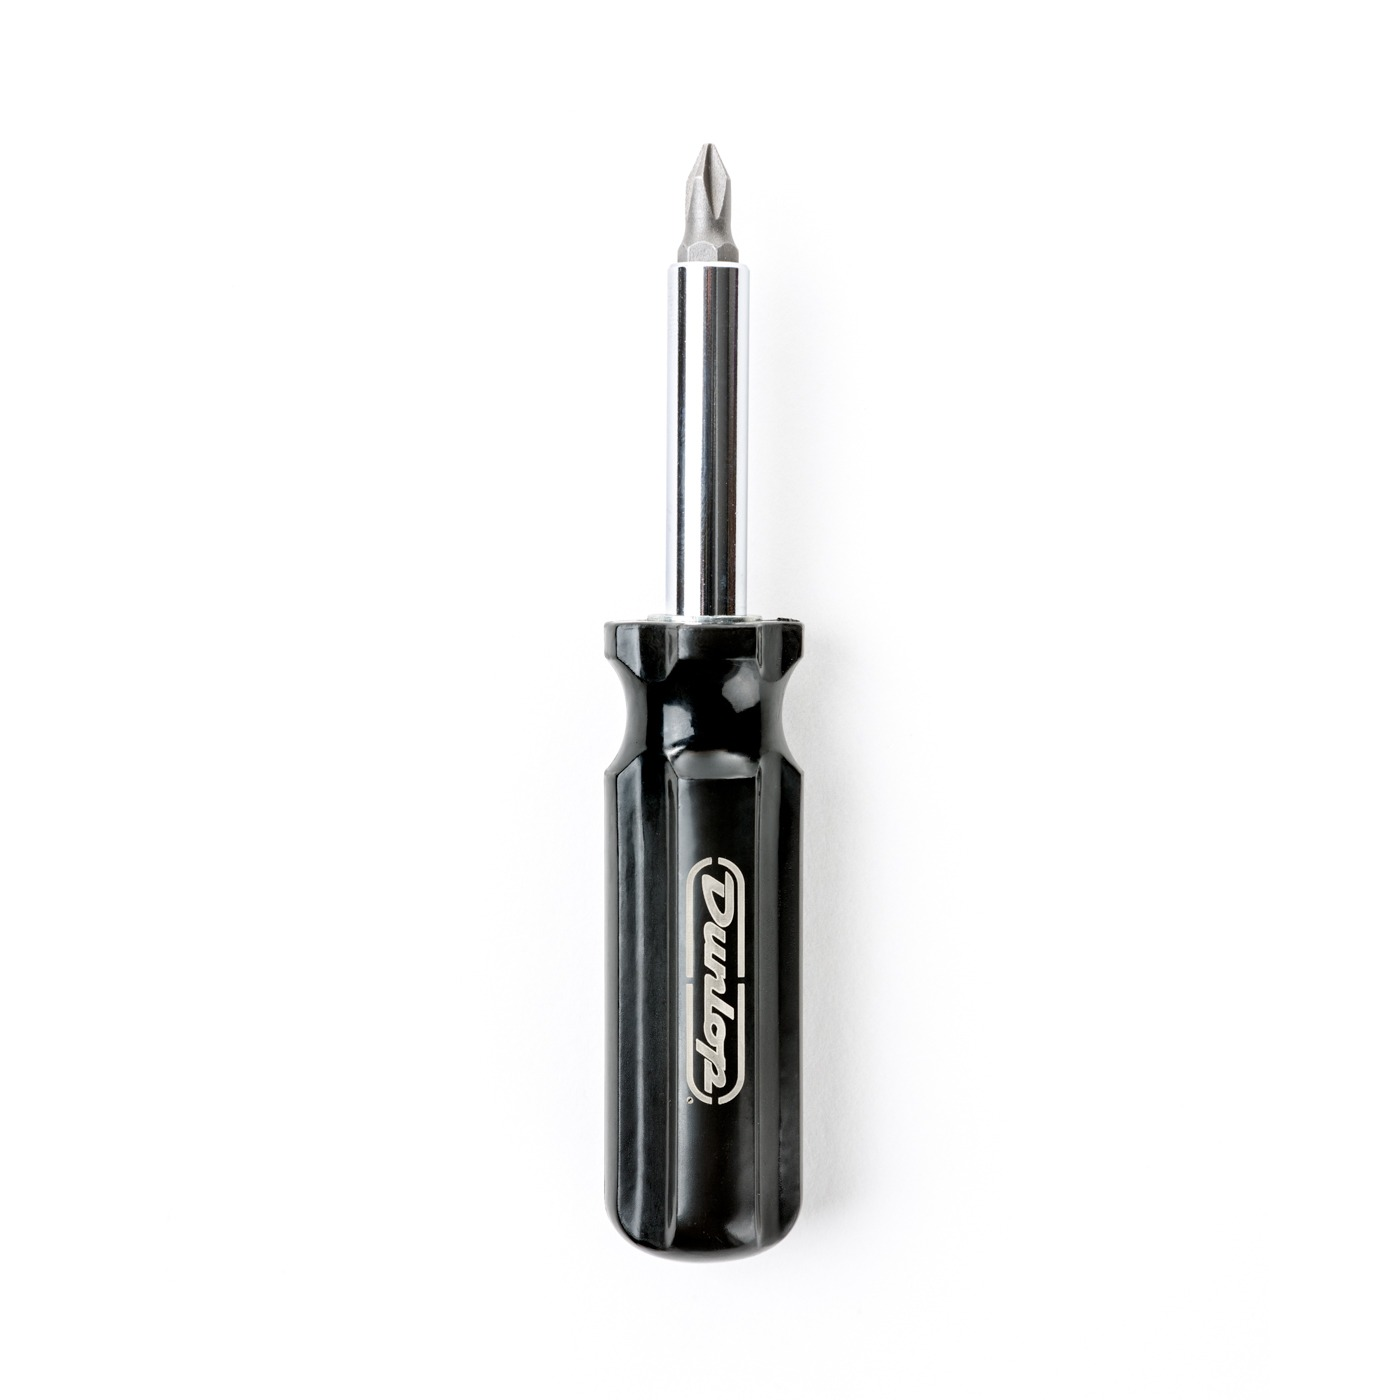screwdriver: (577, 136, 842, 1256)
